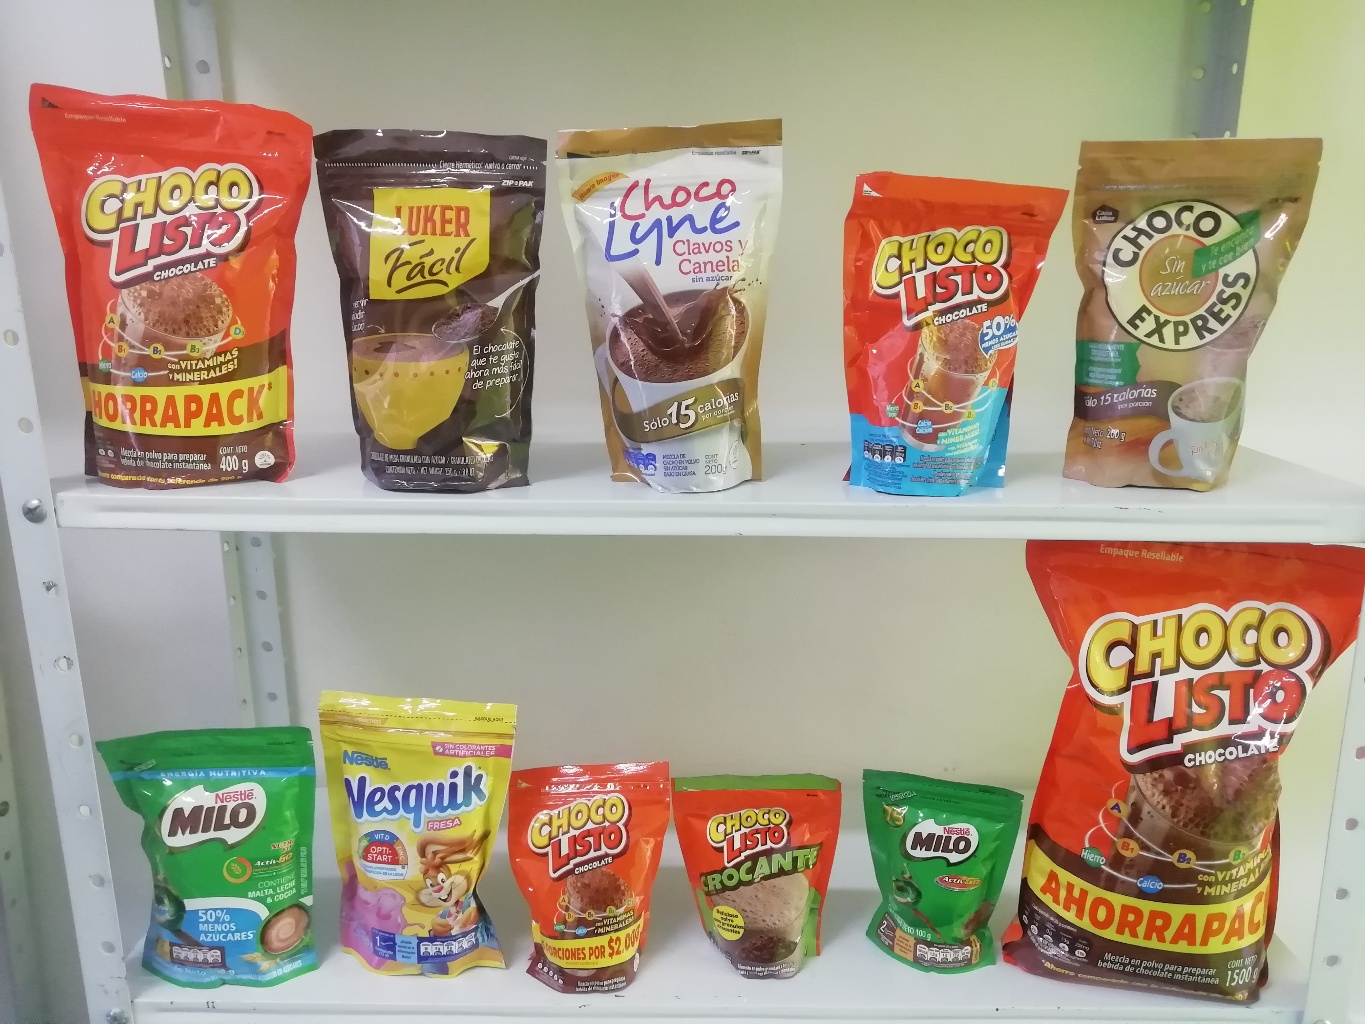COL0170102DYP10000: (668, 772, 856, 987)
COL0170103DYP1,500: (1021, 538, 1365, 1010)
COL0170103DYP10000: (496, 754, 676, 1002)
COL0170103DYP40000: (15, 75, 328, 492)
COL0170104DYP20000: (823, 168, 1072, 506)
COL0170203DYP10000: (857, 759, 1030, 972)
COL0170205DYP20000: (96, 719, 331, 996)
COL0170305DYP20000: (312, 686, 531, 992)
